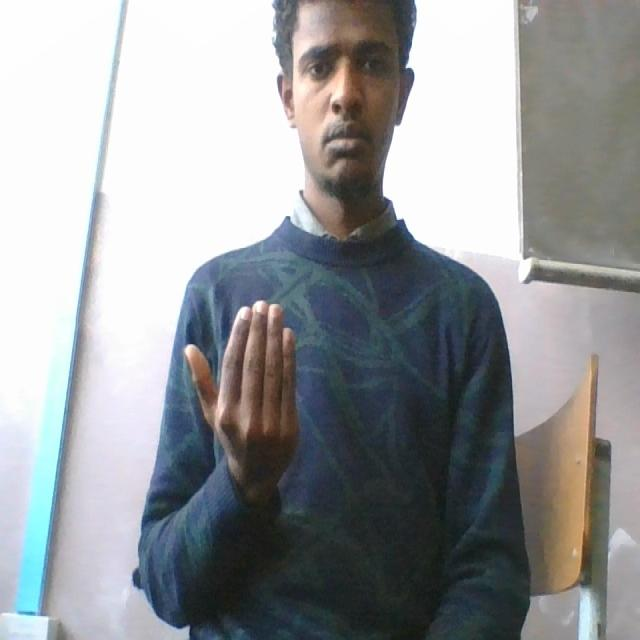na: (181, 288, 326, 530)
